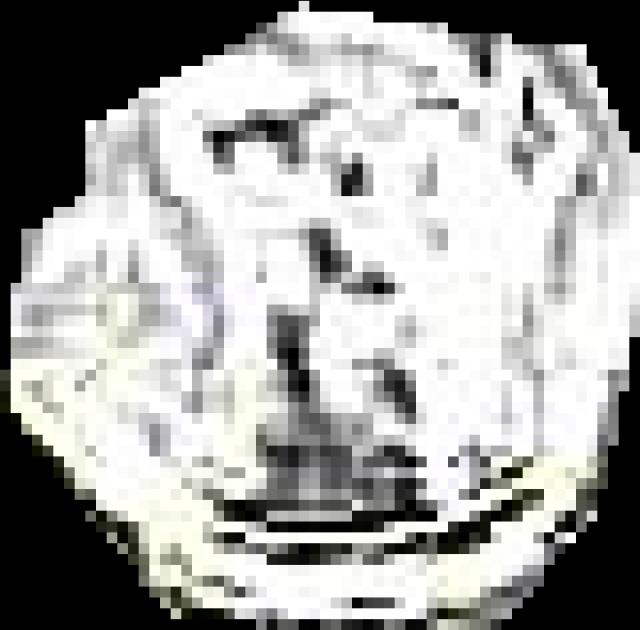tumor_good_chance: (0, 1, 640, 630)
